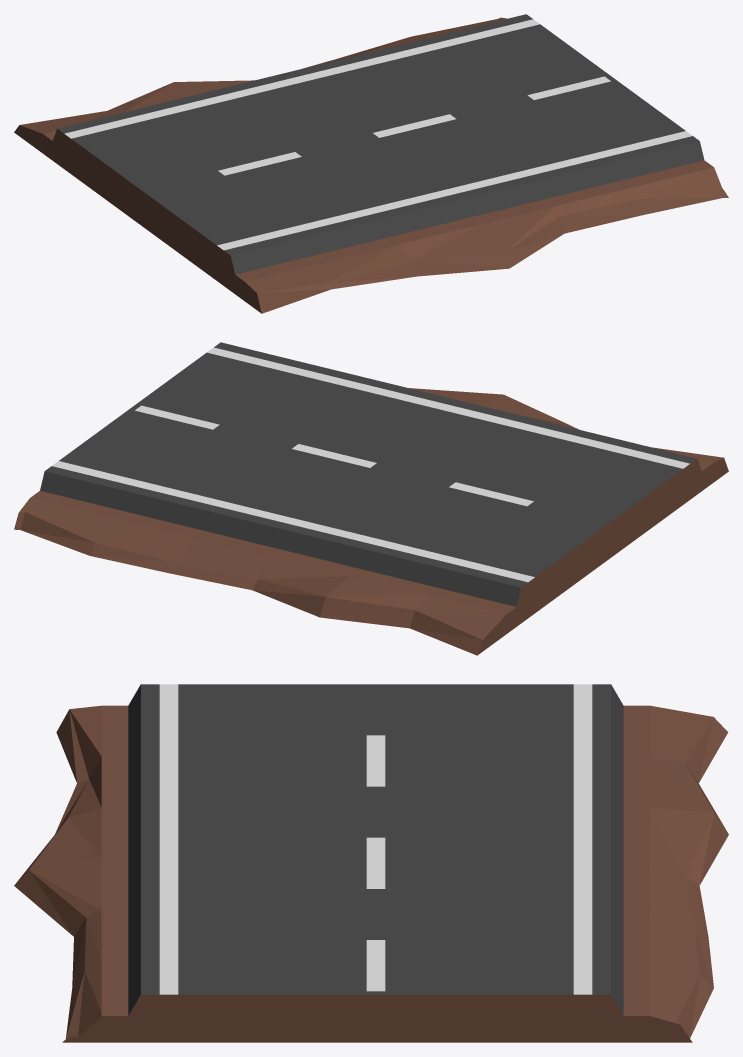
File: transport_road.glb
3 renders of one model, top to bottom at view 1: azimuth 30°, elevation 25°; view 2: azimuth 150°, elevation 25°; view 3: azimuth 270°, elevation 25°, orthographic. The views are drawn at different scales.
Visible parts, largest first — view 1: road; view 2: road; view 3: road.
Boxes of the visible parts, bbox=[...] form: road: bbox=[14, 14, 728, 313]; road: bbox=[14, 342, 728, 655]; road: bbox=[14, 684, 728, 1042].
Size of the model in its own units: 1 by 0.0723 by 0.9734.
Materials: 1 (1 with a texture image).
